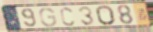3: (78, 6, 96, 26)
8: (116, 4, 135, 26)
9: (21, 7, 38, 28)
C: (59, 7, 76, 27)
G: (39, 7, 58, 28)
O: (95, 4, 117, 26)
